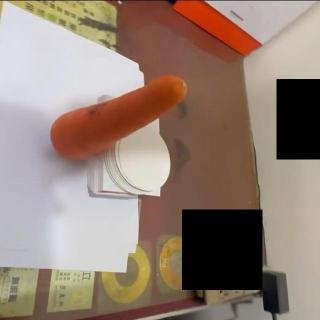carrot: (52, 75, 186, 158)
